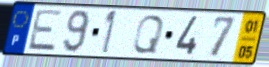1: (100, 9, 119, 57)
4: (174, 14, 200, 58)
7: (210, 15, 237, 59)
9: (62, 9, 92, 55)
E: (26, 8, 66, 53)
Q: (130, 13, 166, 56)
